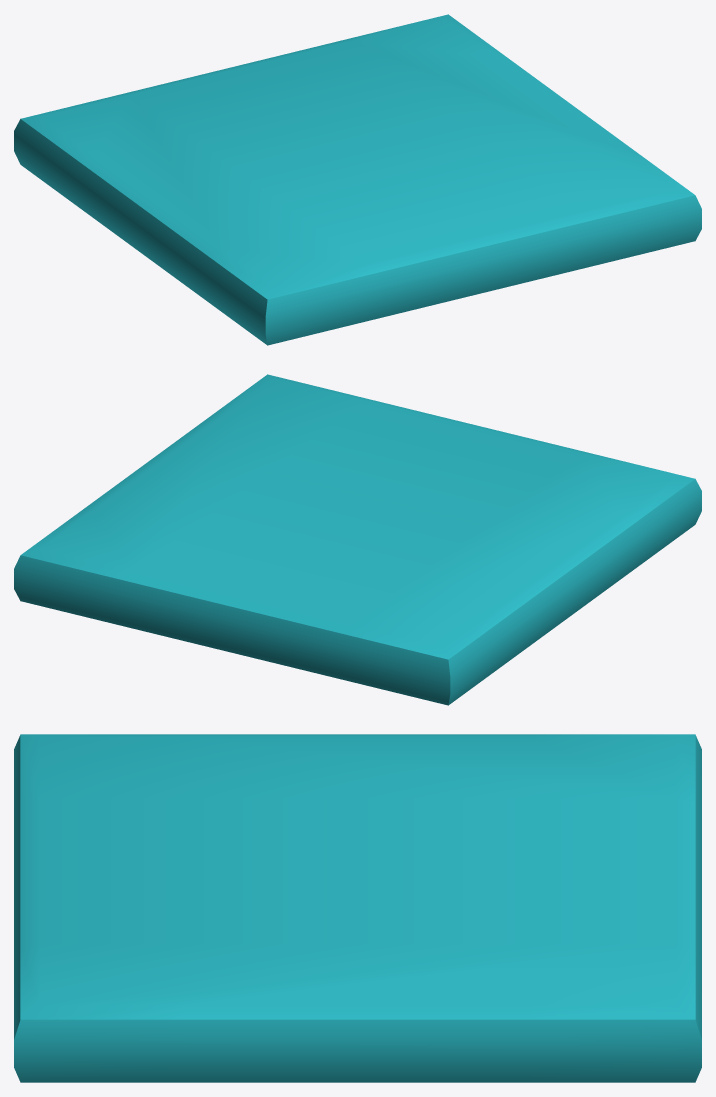
File: Floating Platform 2.fbx
3 renders of one model, top to bottom at view 1: azimuth 30°, elevation 25°; view 2: azimuth 150°, elevation 25°; view 3: azimuth 270°, elevation 25°, orthographic. The views are drawn at different scales.
Parts seen in each view (by area): view 1: Box001; view 2: Box001; view 3: Box001.
Boxes of the visible parts, left/top/right/bottom form: Box001: left=14, top=14, right=701, bottom=345; Box001: left=14, top=374, right=701, bottom=705; Box001: left=14, top=734, right=701, bottom=1082.
Bounding box in the file's own units: 20 × 2.39 × 20.
1 material, 1 textured.
